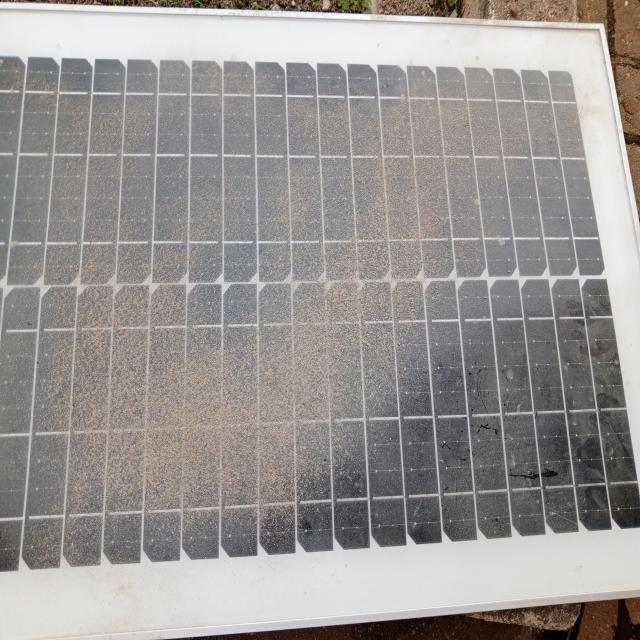Surface Contaminant: (3, 48, 600, 581)
